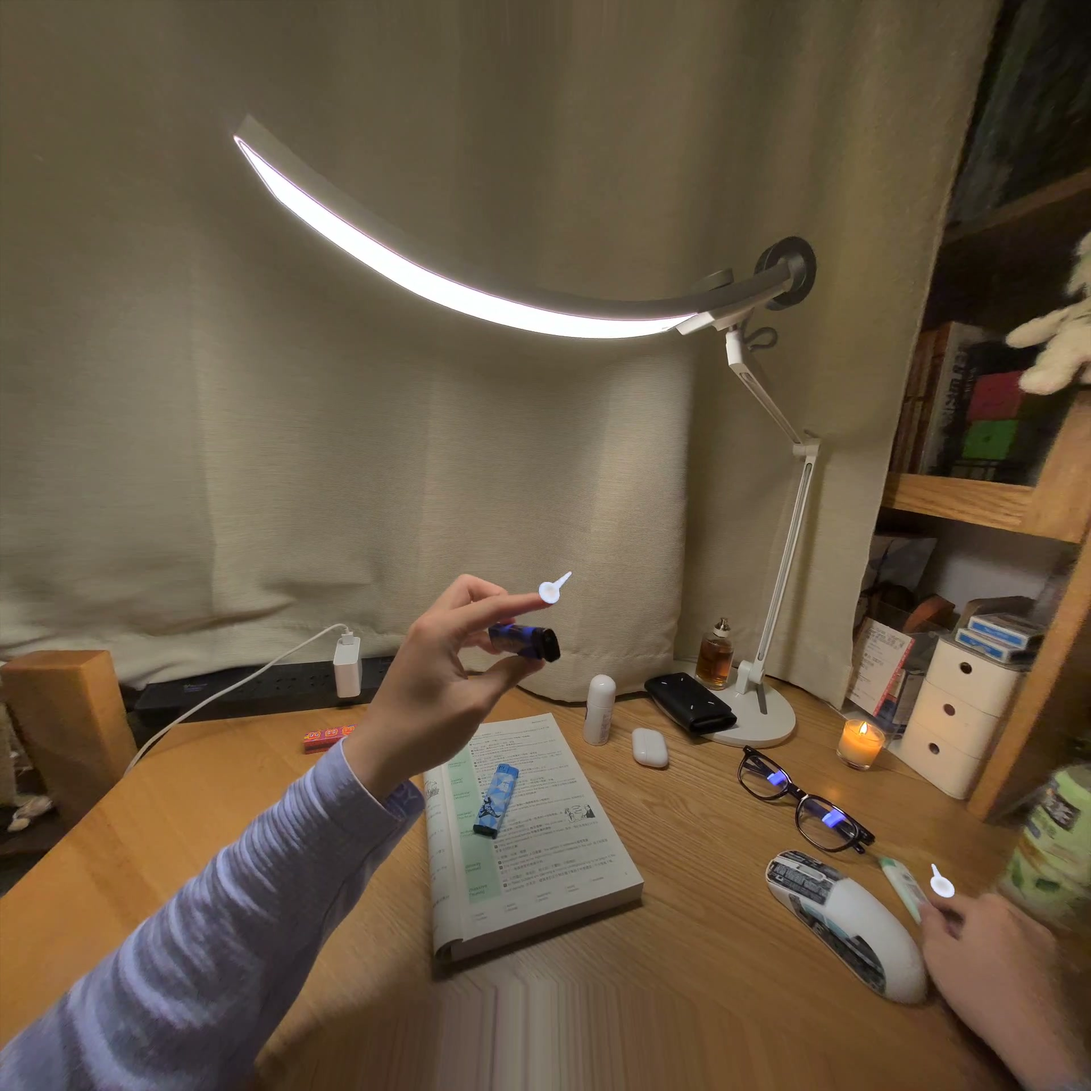lighter: (488, 624, 560, 662)
